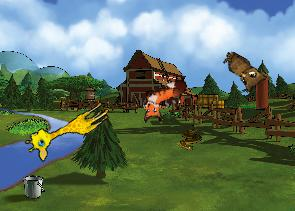fox: (134, 76, 194, 126)
giraffe: (21, 90, 113, 165)
owl: (215, 49, 269, 96)
